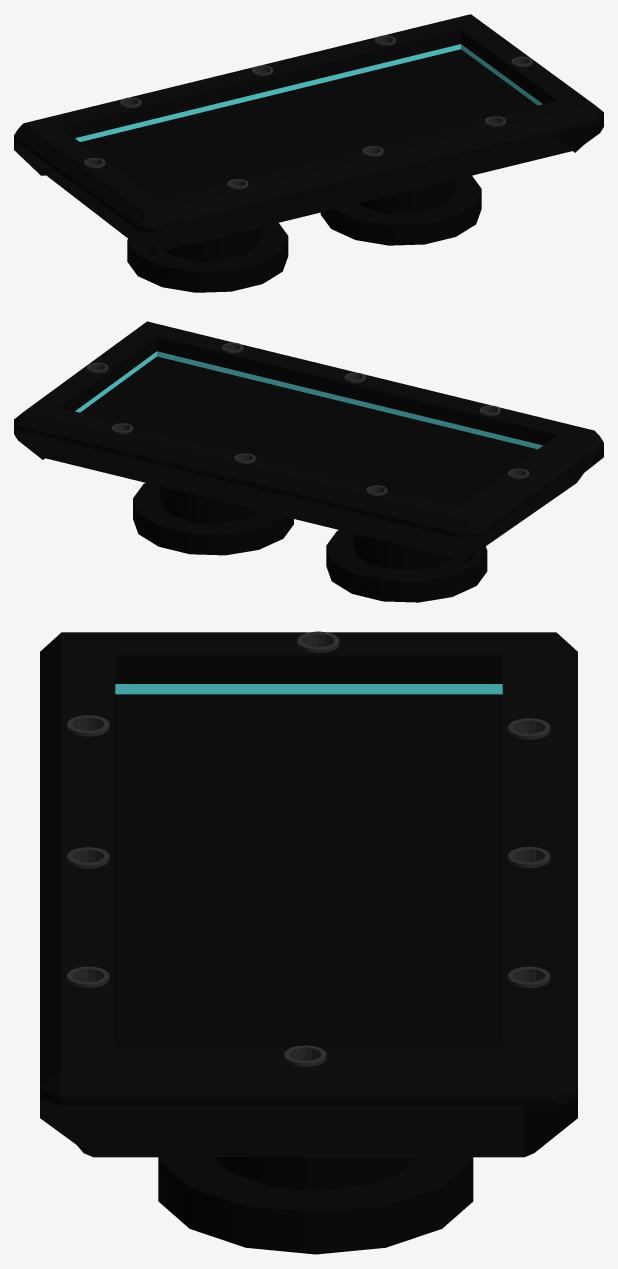
File: Poker Table.FBX
3 renders of one model, top to bottom at view 1: azimuth 30°, elevation 25°; view 2: azimuth 150°, elevation 25°; view 3: azimuth 270°, elevation 25°, orthographic. The views are drawn at different scales.
Visible parts, largest first — view 1: Poker Table Top, Poke Table Leg, Poke Table Leg001; view 2: Poker Table Top, Poke Table Leg, Poke Table Leg001; view 3: Poker Table Top, Poke Table Leg001.
Part boxes in pixels (x1,y1,x2,y2): Poker Table Top: (14, 14, 603, 255); Poke Table Leg: (127, 223, 288, 292); Poke Table Leg001: (320, 175, 481, 245); Poker Table Top: (14, 321, 603, 562); Poke Table Leg: (326, 530, 487, 602); Poke Table Leg001: (133, 483, 293, 555); Poker Table Top: (40, 632, 577, 1157); Poke Table Leg001: (158, 1157, 473, 1254).
Bounding box in the file's own units: 1 × 0.2536 × 0.5.
